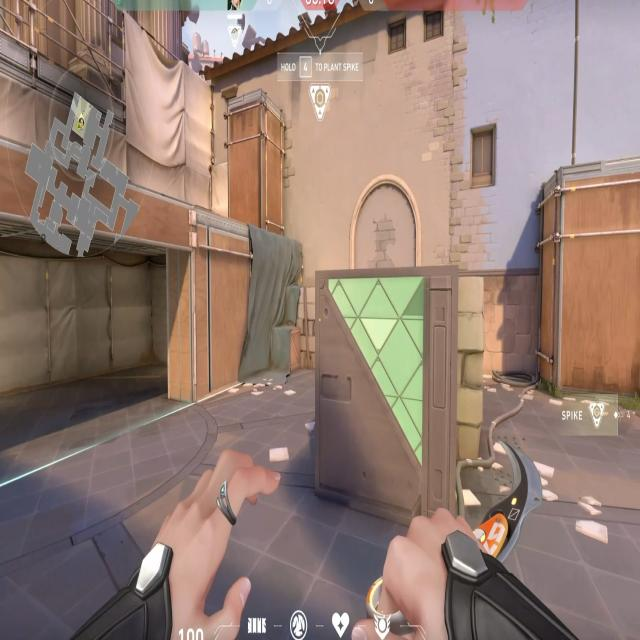A_Heaven_Box: (225, 87, 290, 238)
A_Hell: (0, 181, 202, 434)
